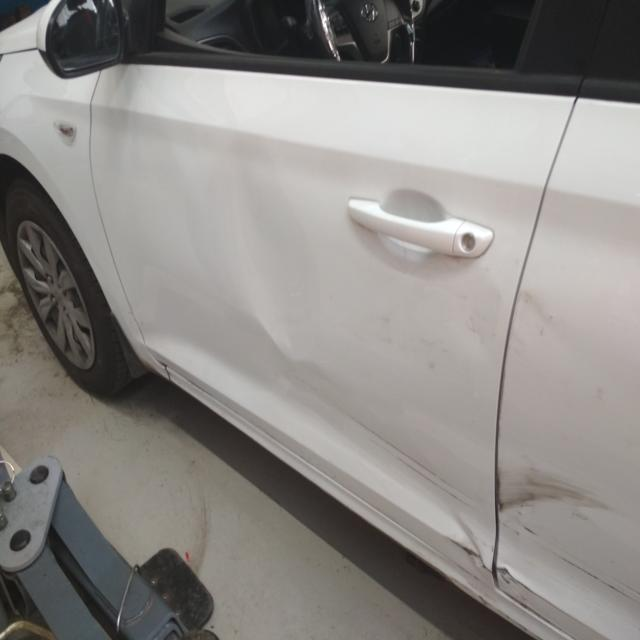Cabossage: (219, 218, 333, 382), (452, 501, 520, 600), (508, 288, 554, 342)
Rayure: (340, 407, 640, 610), (492, 470, 607, 511)
